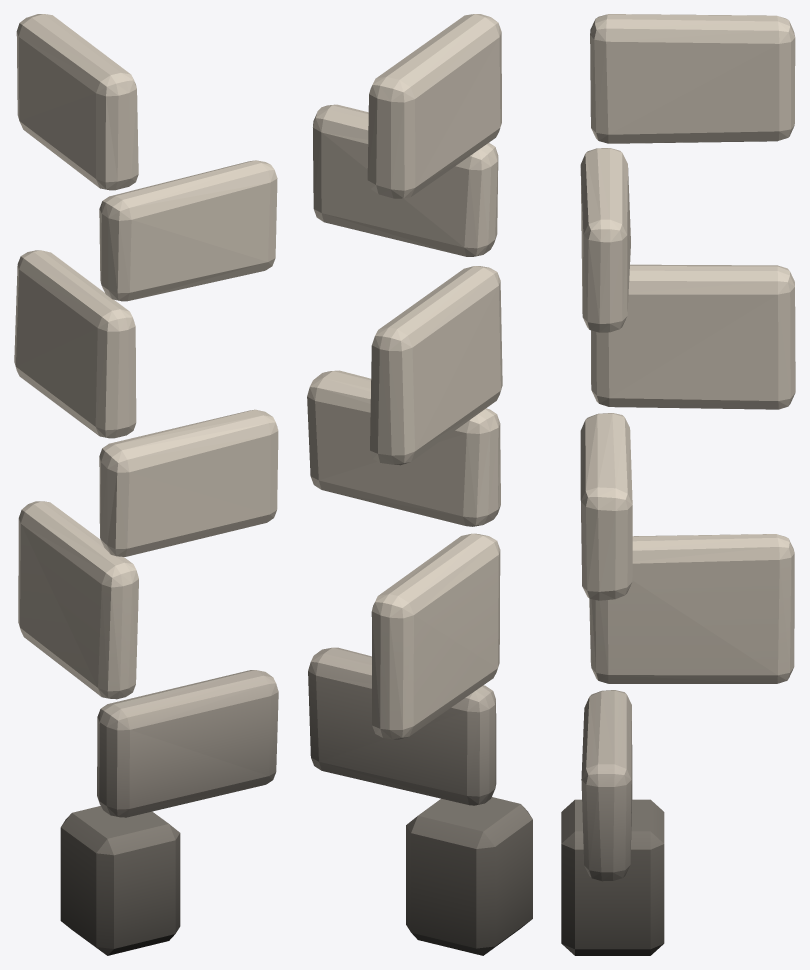
Rendered from SM_VK_InnerCorner_Stone.fbx.
3 renders of one model, left to right at view 1: azimuth 30°, elevation 25°; view 2: azimuth 150°, elevation 25°; view 3: azimuth 270°, elevation 25°, orthographic. The views are drawn at different scales.
Parts seen in each view (by area): view 1: SM_VK_InnerCorner_Stone.001; view 2: SM_VK_InnerCorner_Stone.001; view 3: SM_VK_InnerCorner_Stone.001.
Boxes of the visible parts, box(x1,y1,x2,y2) form: SM_VK_InnerCorner_Stone.001: box(14, 14, 278, 955); SM_VK_InnerCorner_Stone.001: box(307, 14, 532, 955); SM_VK_InnerCorner_Stone.001: box(561, 14, 795, 955).
Bounding box in the file's own units: 0.6856 × 2.95 × 0.6824.
